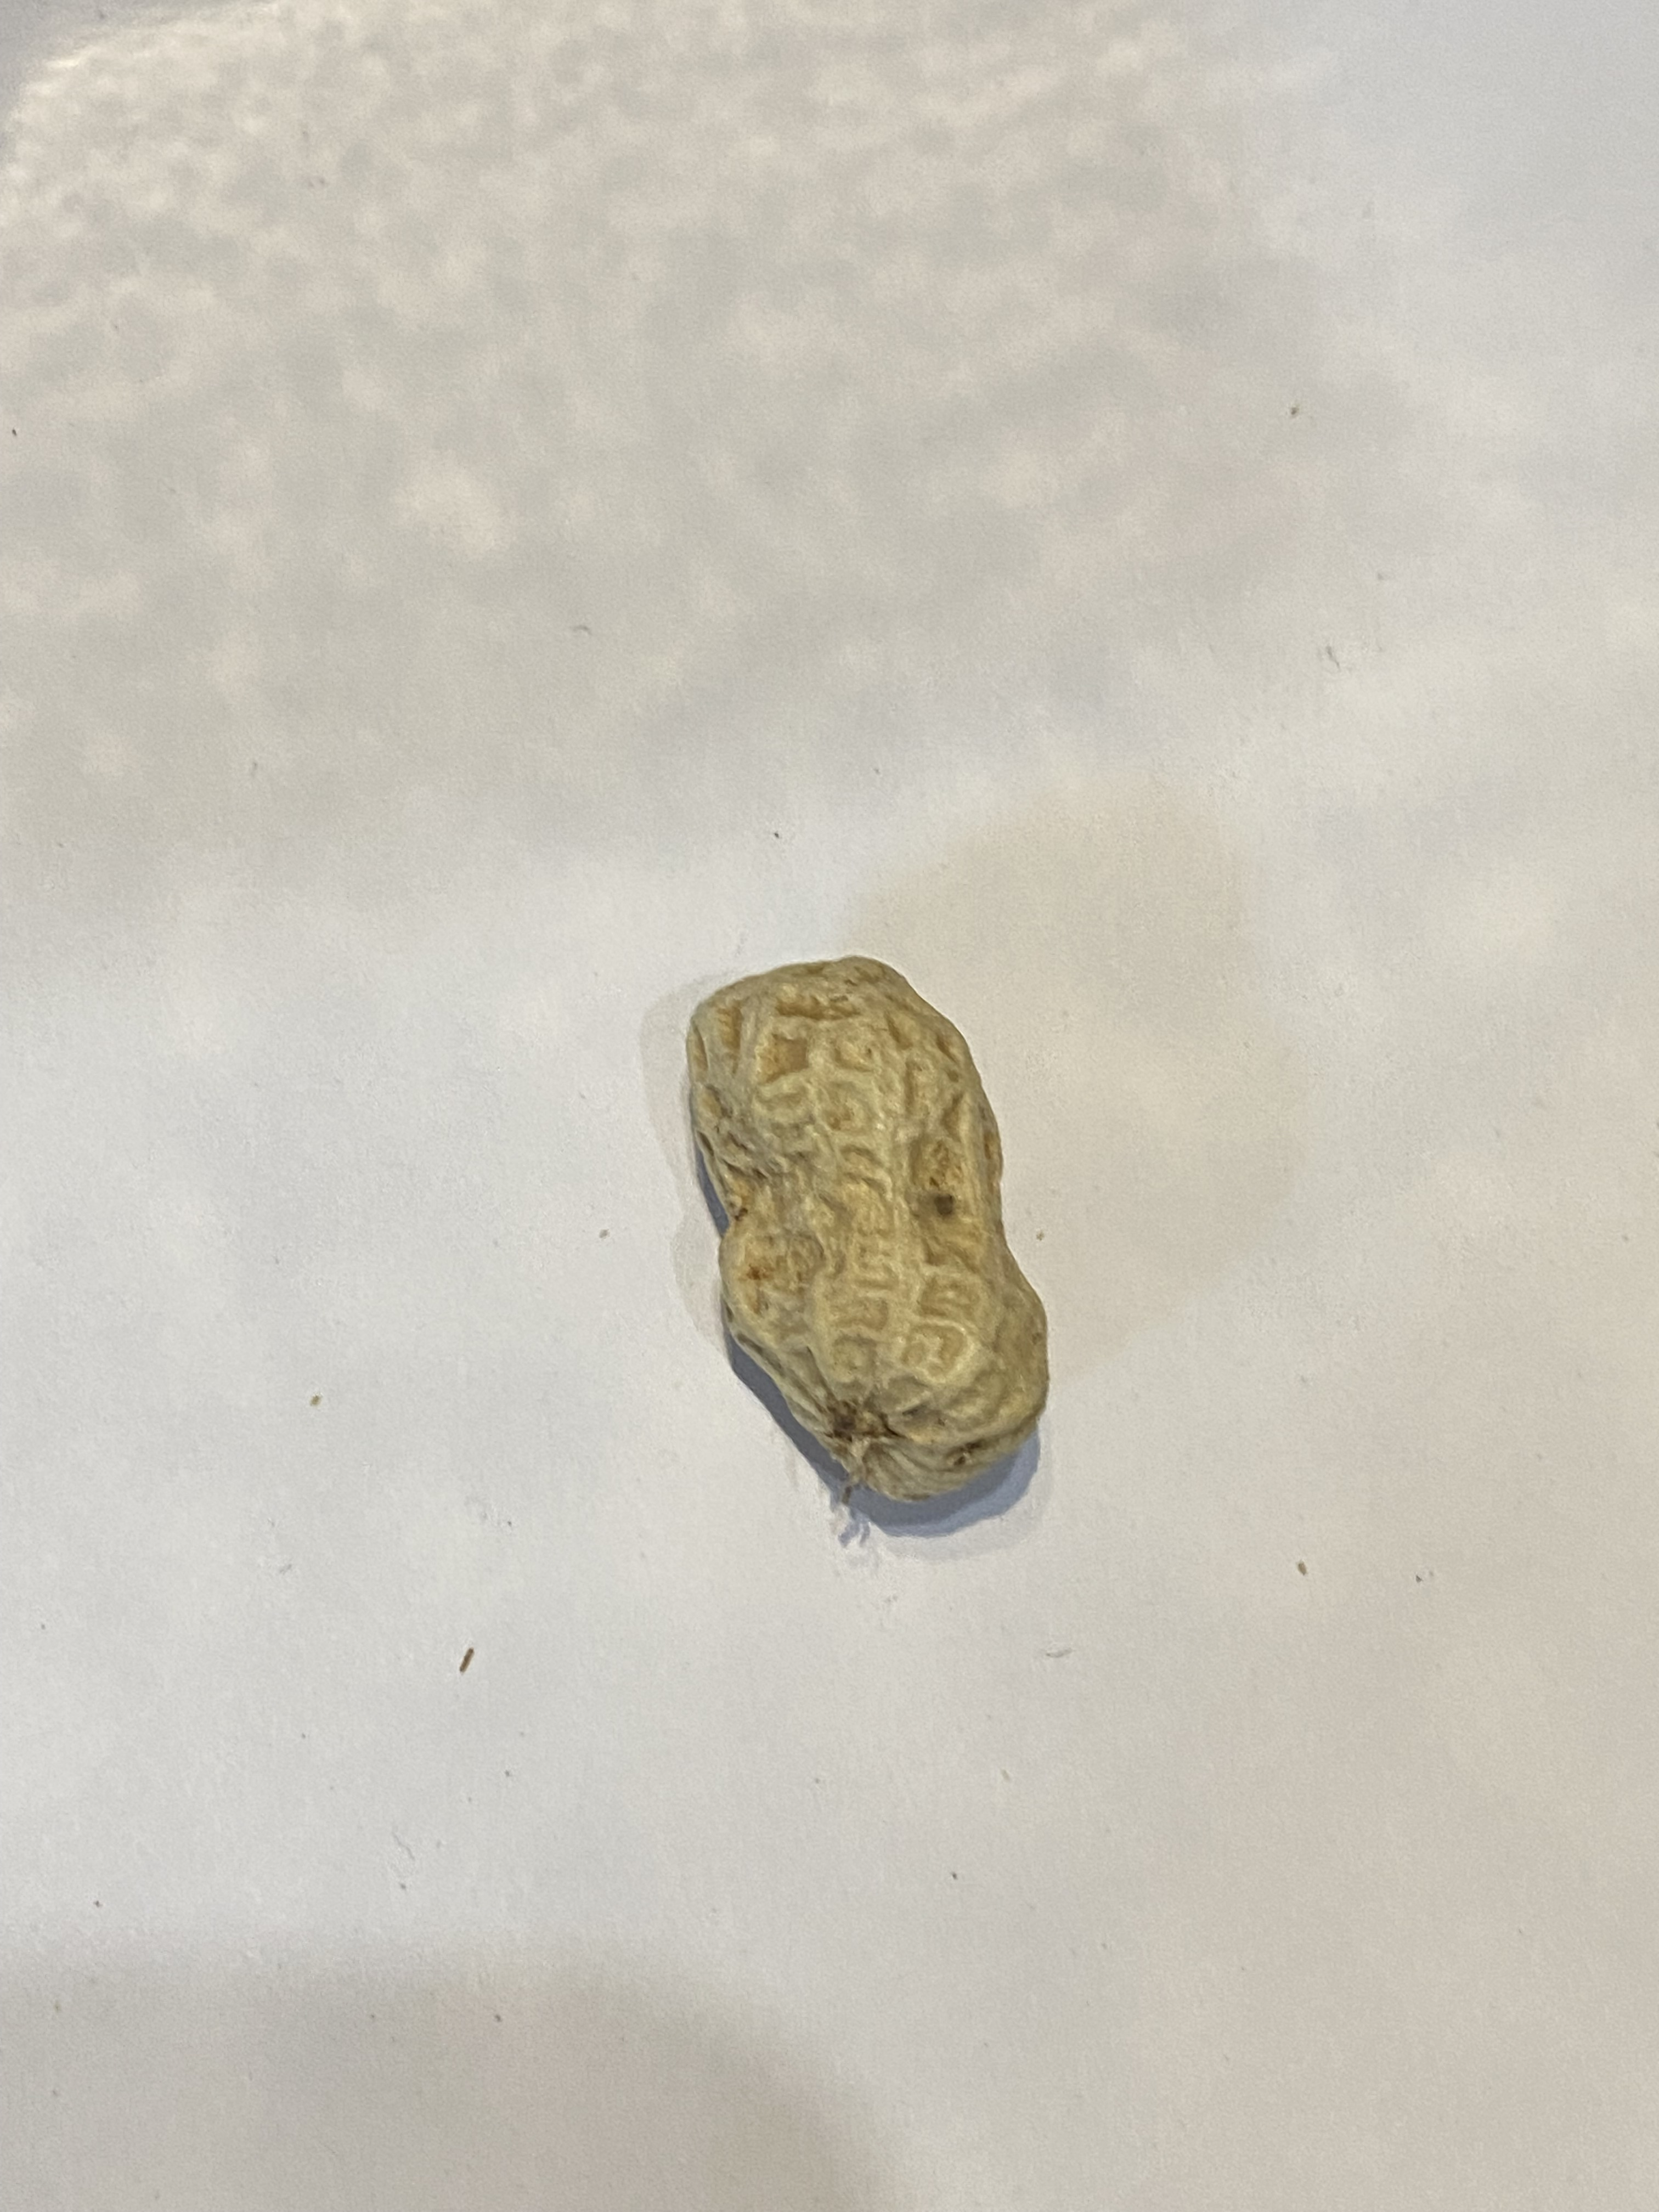kacang2: (662, 958, 1105, 1503)
